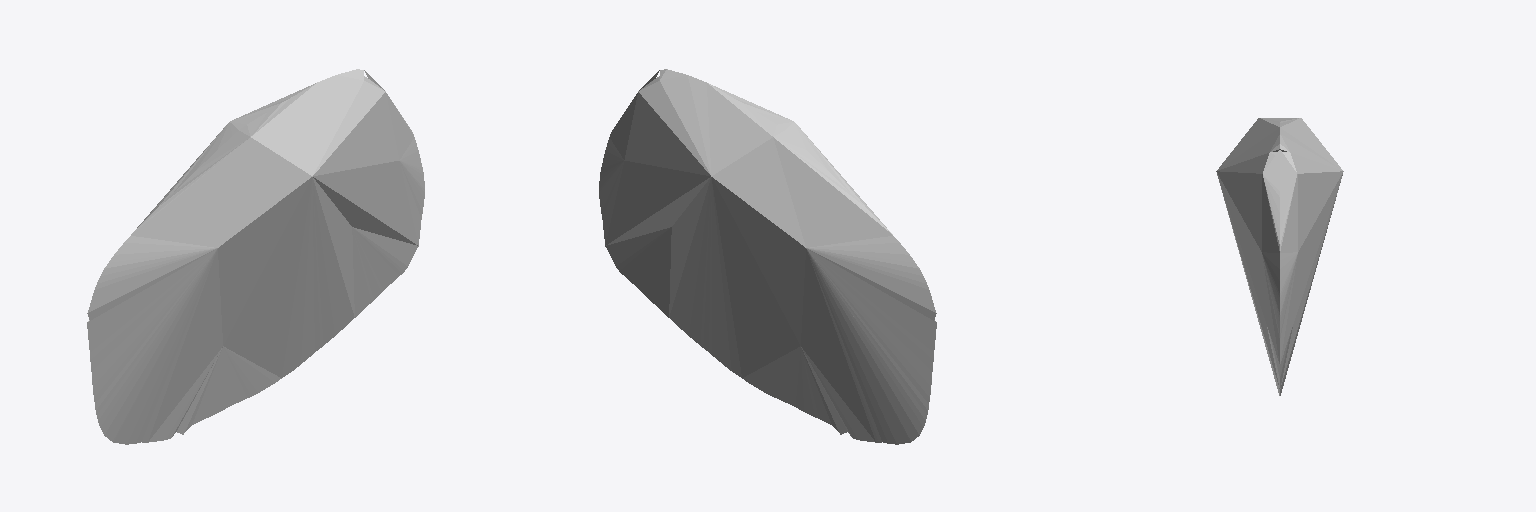
Rendered from feijao.obj.
3 views of the same model, side by side, from view 1: azimuth 30°, elevation 25°; view 2: azimuth 150°, elevation 25°; view 3: azimuth 270°, elevation 25° (orthographic).
Parts seen in each view (by area): view 1: grp1; view 2: grp1; view 3: grp1.
Boxes of the visible parts, x1,y1,x2,y2 form: grp1: [87, 69, 424, 444]; grp1: [599, 69, 936, 444]; grp1: [1216, 118, 1343, 395].
Size of the model in its own units: 583 by 534 by 190.